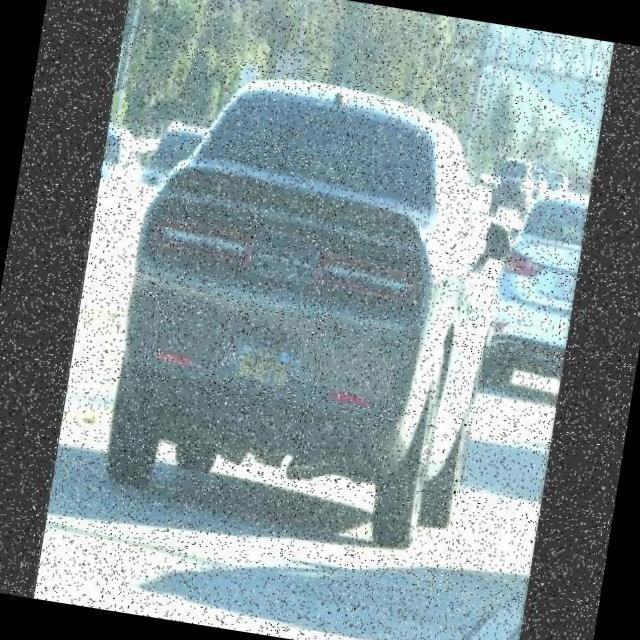License Plate: (234, 342, 296, 402), (548, 274, 576, 306)
